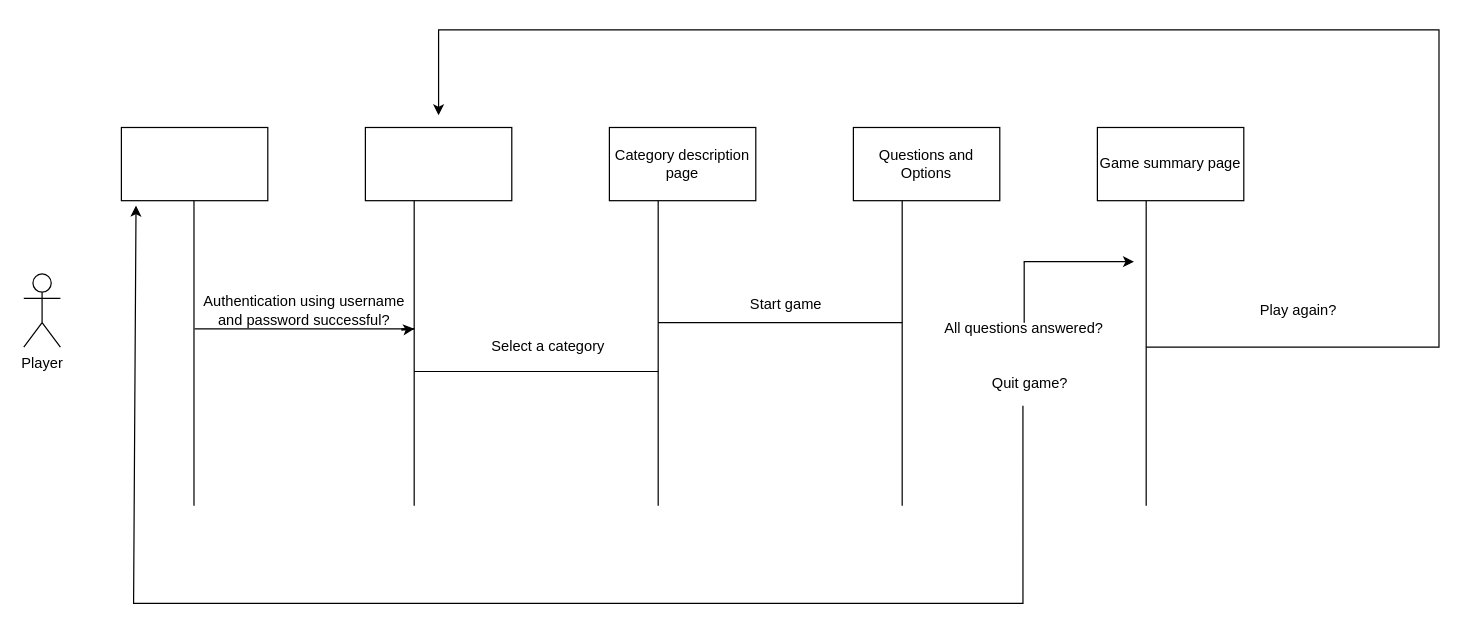
Some shapes in this 1470 by 634 pixel diagram are drawn without their labels. The centre of each missing label's shape, as x and y in pixels:
Categories list page: pixel 438 163
Game home page: pixel 194 163
